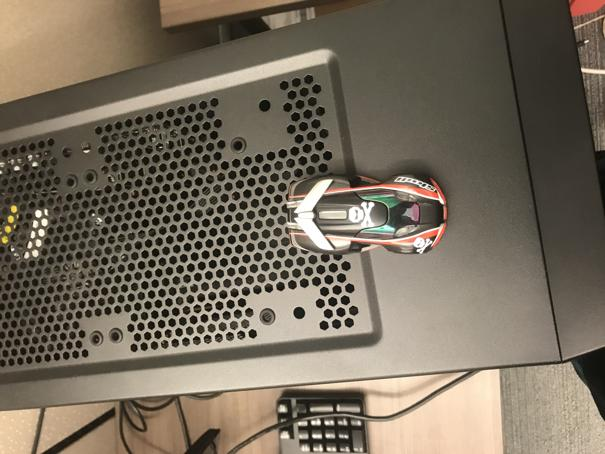Skull: (285, 170, 450, 255)
